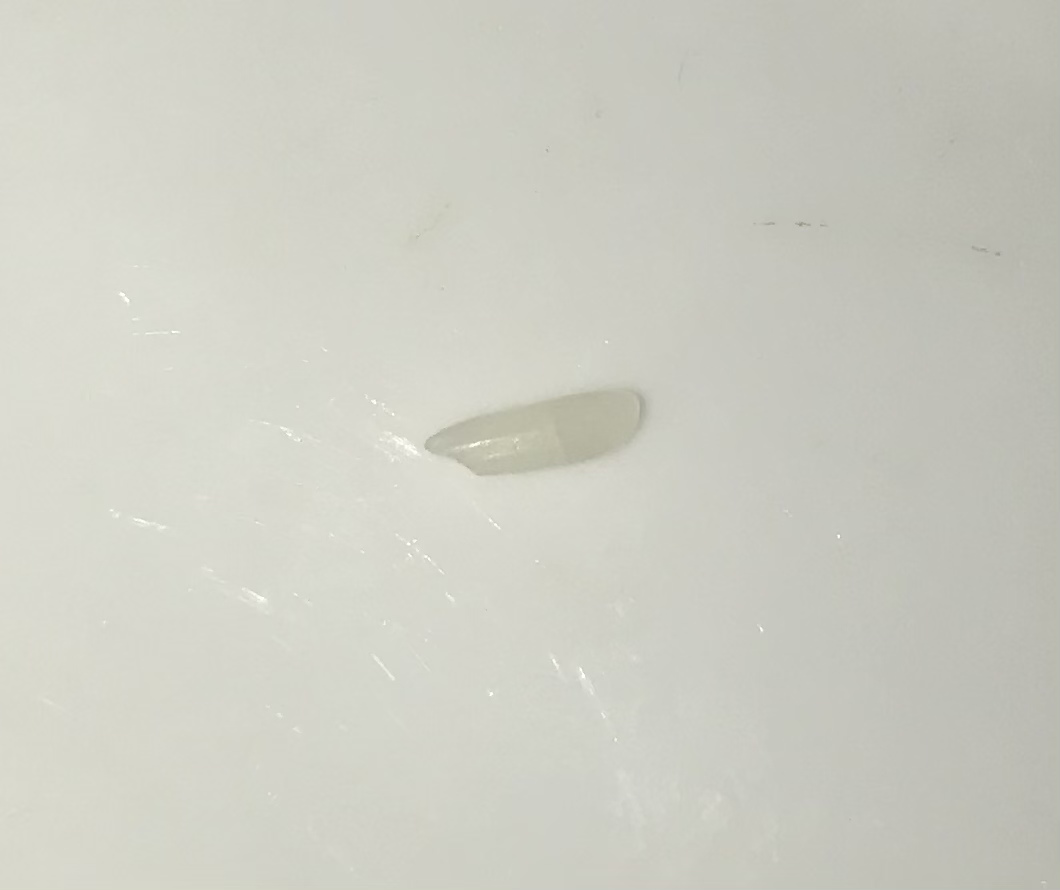Gao Ngoc Troi: (417, 369, 653, 499)
